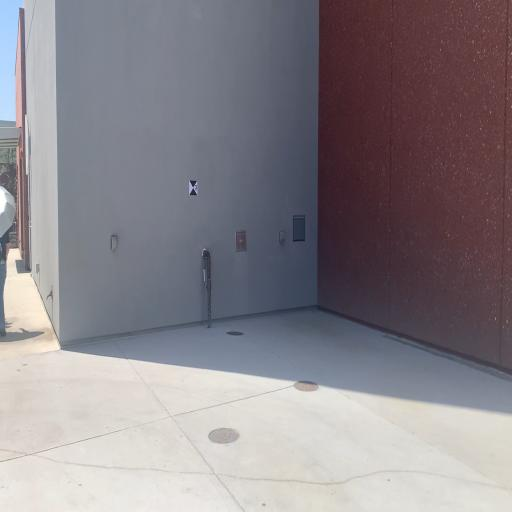target3: (189, 180, 198, 197)
